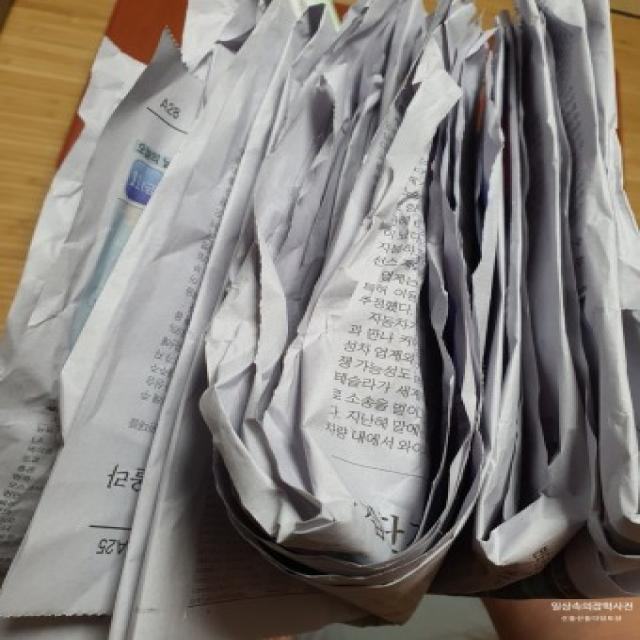Newspaper: (0, 0, 639, 640)
